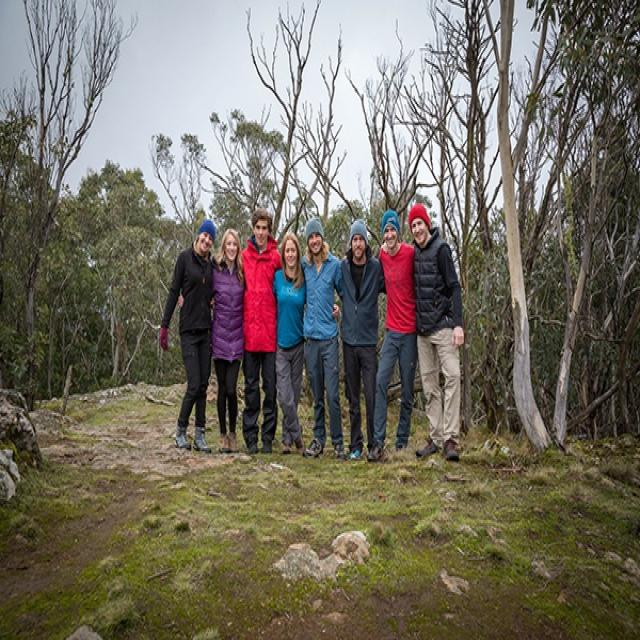body: (176, 226, 245, 456), (406, 202, 465, 464), (158, 216, 220, 456), (366, 206, 418, 464), (337, 216, 389, 461), (234, 205, 284, 458), (300, 215, 348, 458), (271, 232, 307, 458)
